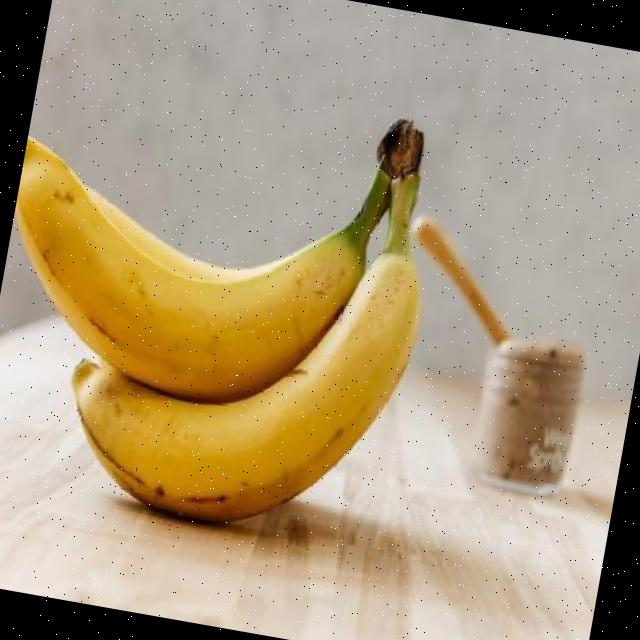banana: (71, 215, 422, 525), (14, 136, 374, 406)
